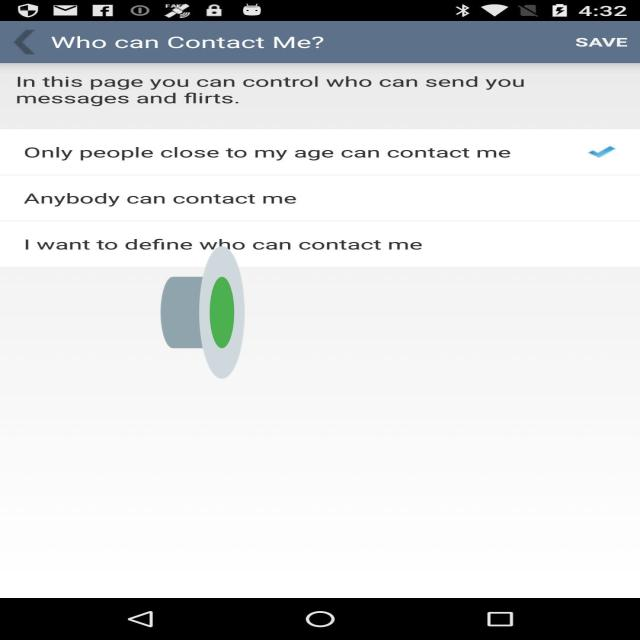social proof: (160, 190, 244, 435)
